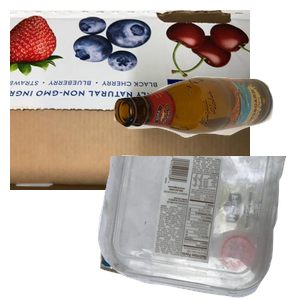cardboard: (10, 10, 250, 190)
glass: (111, 74, 300, 204)
plastic: (95, 156, 300, 300)
trash: (97, 152, 248, 300)
